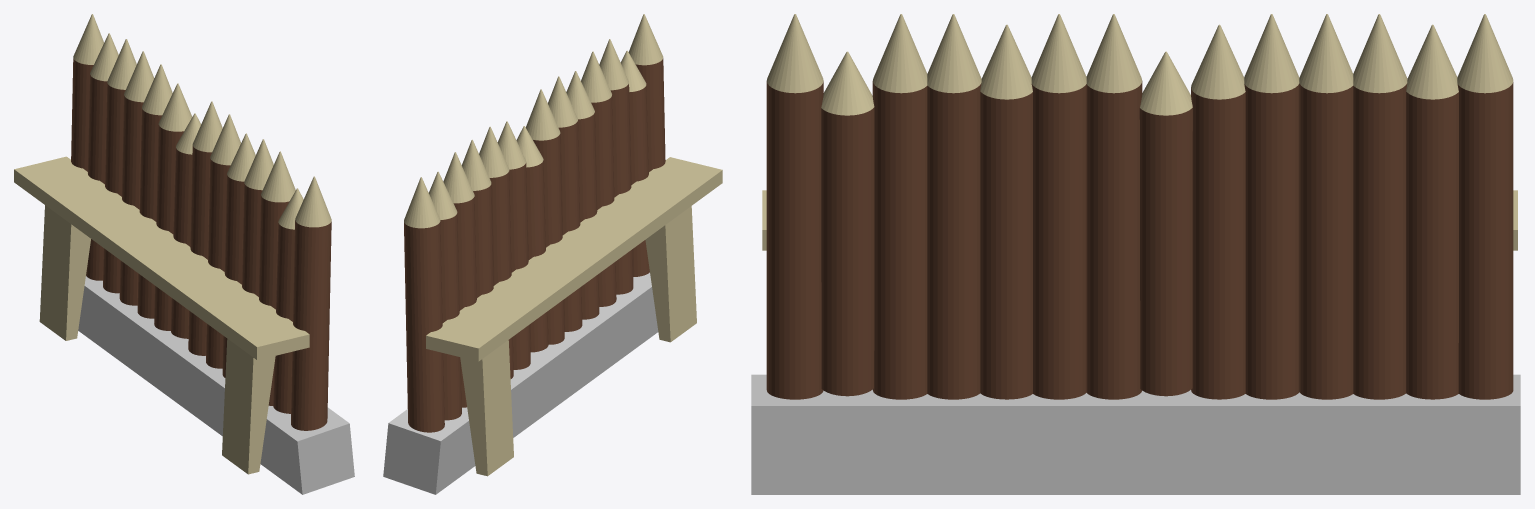
Rendered from Concept Model Walls.fbx.
3 views of the same model, side by side, from view 1: azimuth 30°, elevation 25°; view 2: azimuth 150°, elevation 25°; view 3: azimuth 270°, elevation 25° (orthographic). The views are drawn at different scales.
Visible parts, largest first — view 1: Cylinder; view 2: Cylinder; view 3: Cylinder.
Boxes of the visible parts, <box> form: Cylinder: <box>14,14,354,494</box>; Cylinder: <box>383,14,722,494</box>; Cylinder: <box>751,14,1520,494</box>.
Bounding box in the file's own units: 359 × 1097 × 1632.
